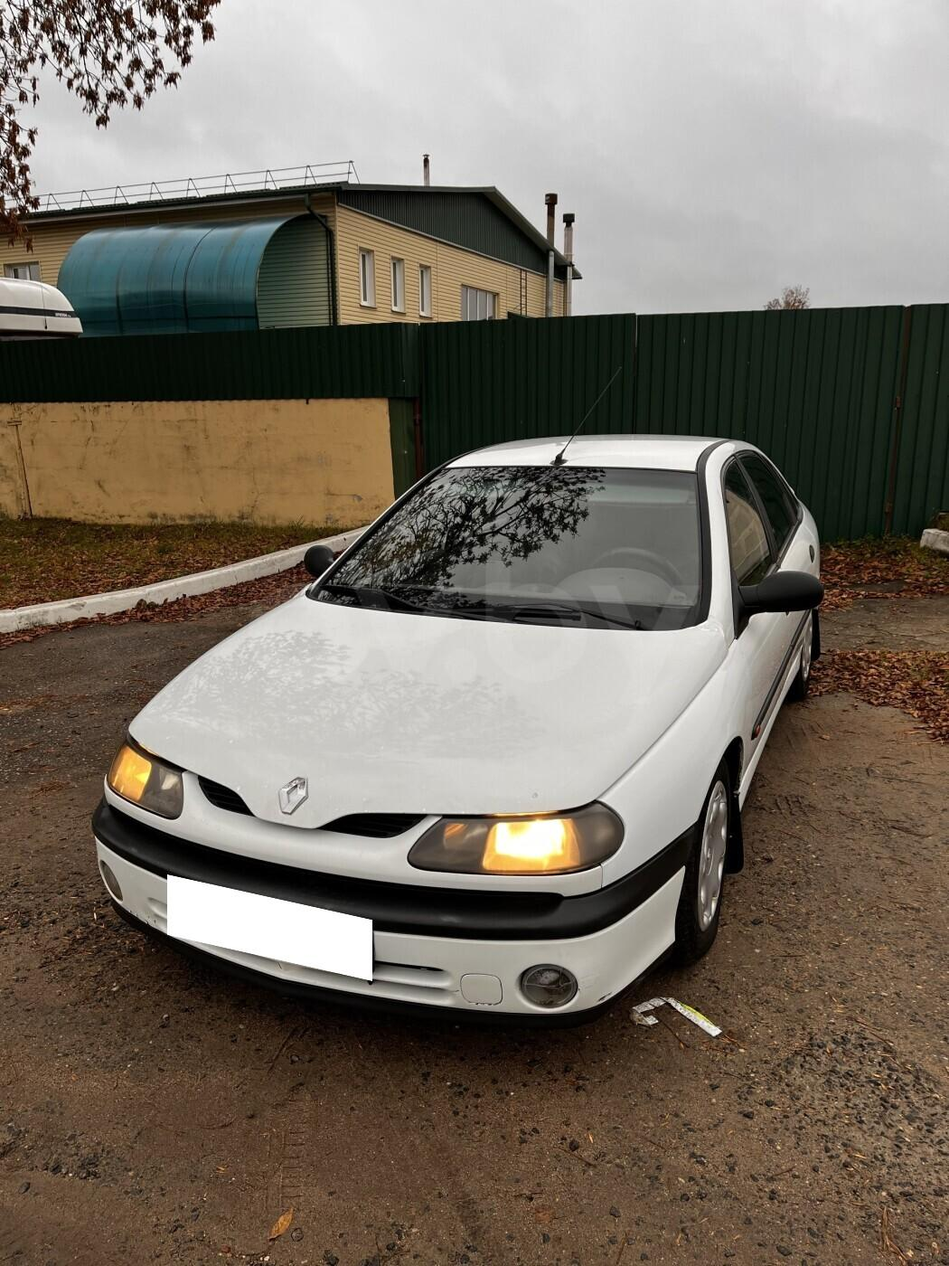Laguna_1998-2001: (90, 421, 828, 1020)
